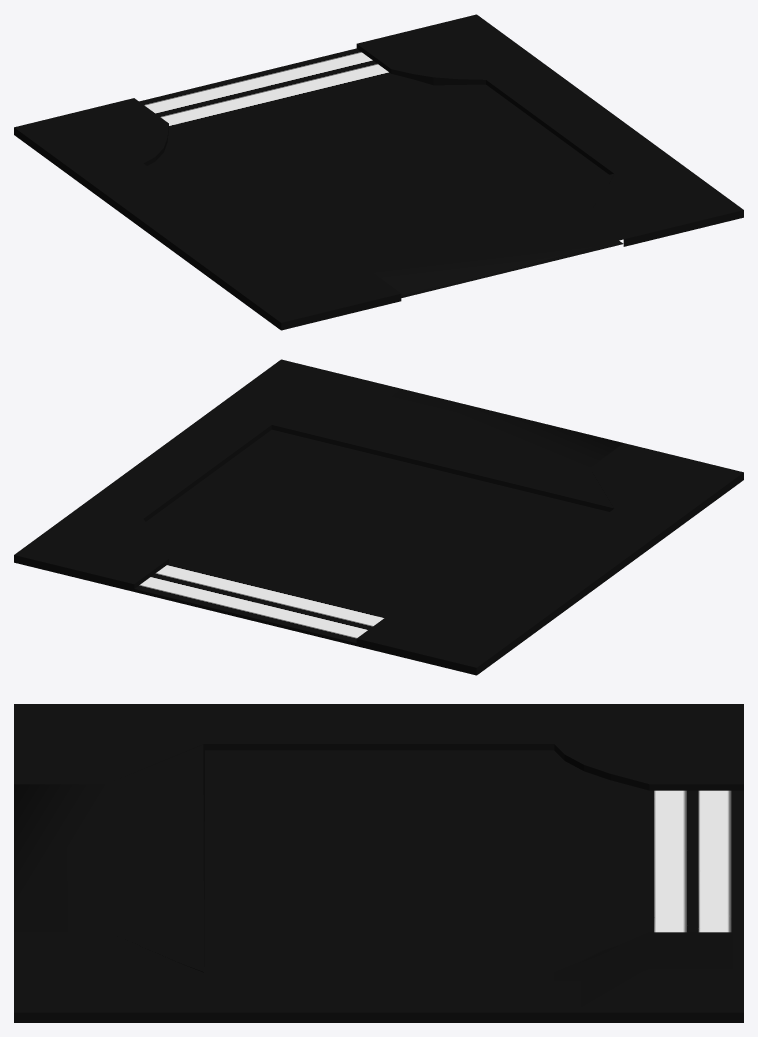
The model's file is road4.FBX.
3 renders of one model, top to bottom at view 1: azimuth 30°, elevation 25°; view 2: azimuth 150°, elevation 25°; view 3: azimuth 270°, elevation 25°, orthographic. The views are drawn at different scales.
Visible parts, largest first — view 1: Box001; view 2: Box001; view 3: Box001.
Boxes of the visible parts, bbox=[...] form: Box001: bbox=[14, 14, 743, 330]; Box001: bbox=[14, 359, 743, 675]; Box001: bbox=[14, 704, 743, 1022].
Size of the model in its own units: 49 by 0.9786 by 49.
